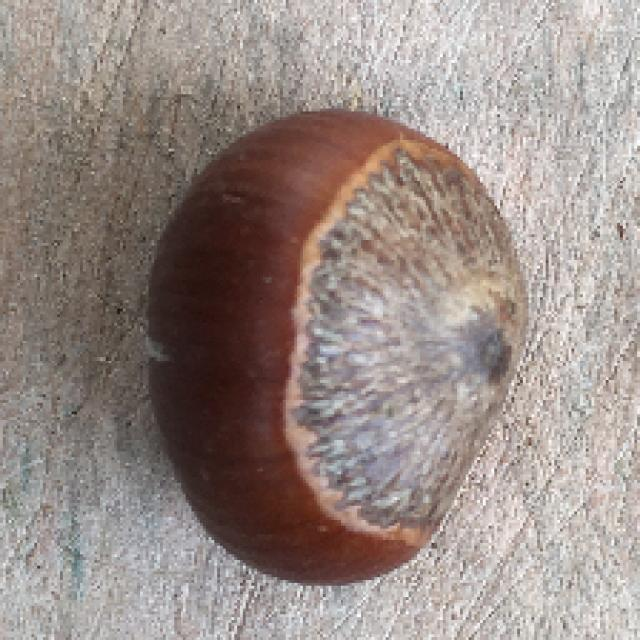damagedHazelnut: (134, 102, 531, 595)
